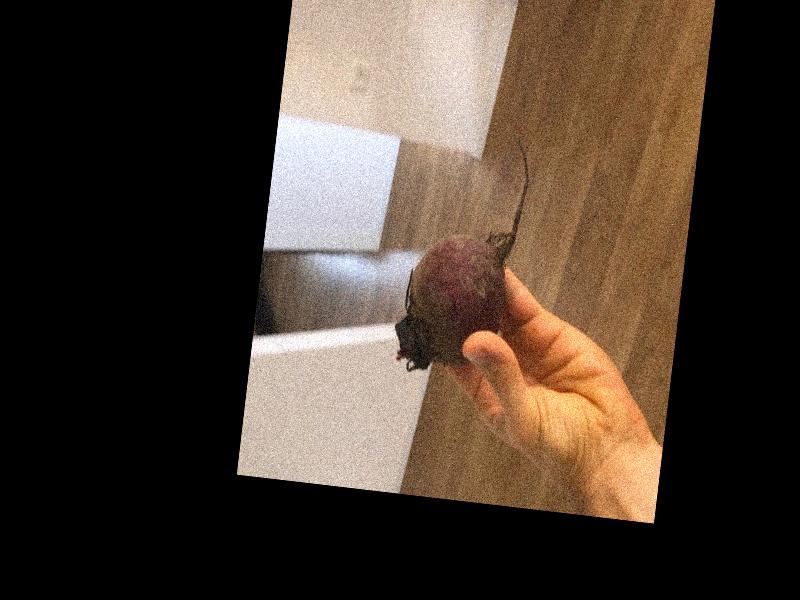Beet: (391, 124, 533, 379)
